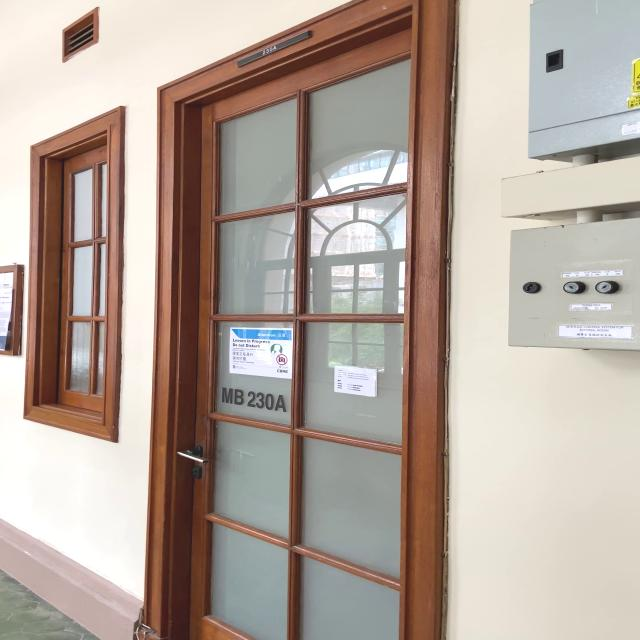room230A: (237, 30, 310, 67)
room230AWindow: (220, 386, 288, 414)
